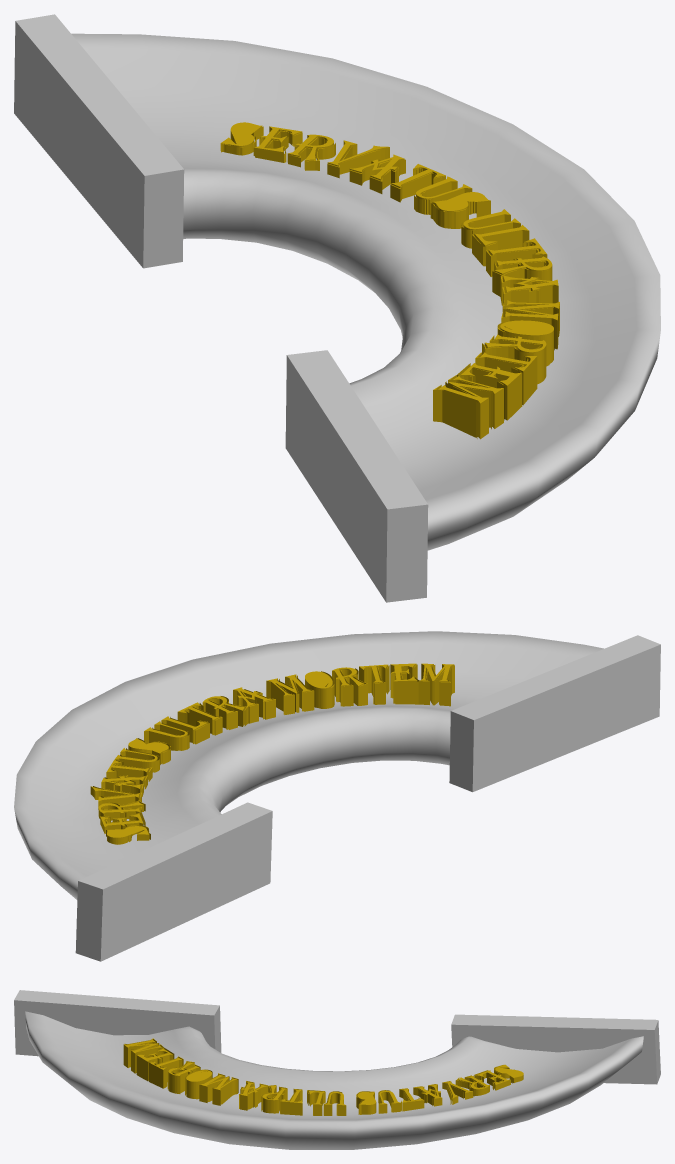
The model's file is plaque.fbx.
3 renders of one model, top to bottom at view 1: azimuth 30°, elevation 25°; view 2: azimuth 150°, elevation 25°; view 3: azimuth 270°, elevation 25°, orthographic. The views are drawn at different scales.
Visible parts, largest first — view 1: Torus.001, Cube.001, Text; view 2: Torus.001, Cube.001, Text; view 3: Torus.001, Cube.001, Text.
Part boxes in pixels (<box>): Torus.001: <box>71,33,660,550</box>; Cube.001: <box>14,14,428,602</box>; Text: <box>220,122,559,439</box>; Torus.001: <box>14,631,603,899</box>; Cube.001: <box>75,635,660,961</box>; Text: <box>90,663,454,844</box>; Torus.001: <box>25,1011,643,1149</box>; Cube.001: <box>14,990,660,1084</box>; Text: <box>123,1038,523,1115</box>.
Size of the model in its own units: 331 by 85.48 by 660.
